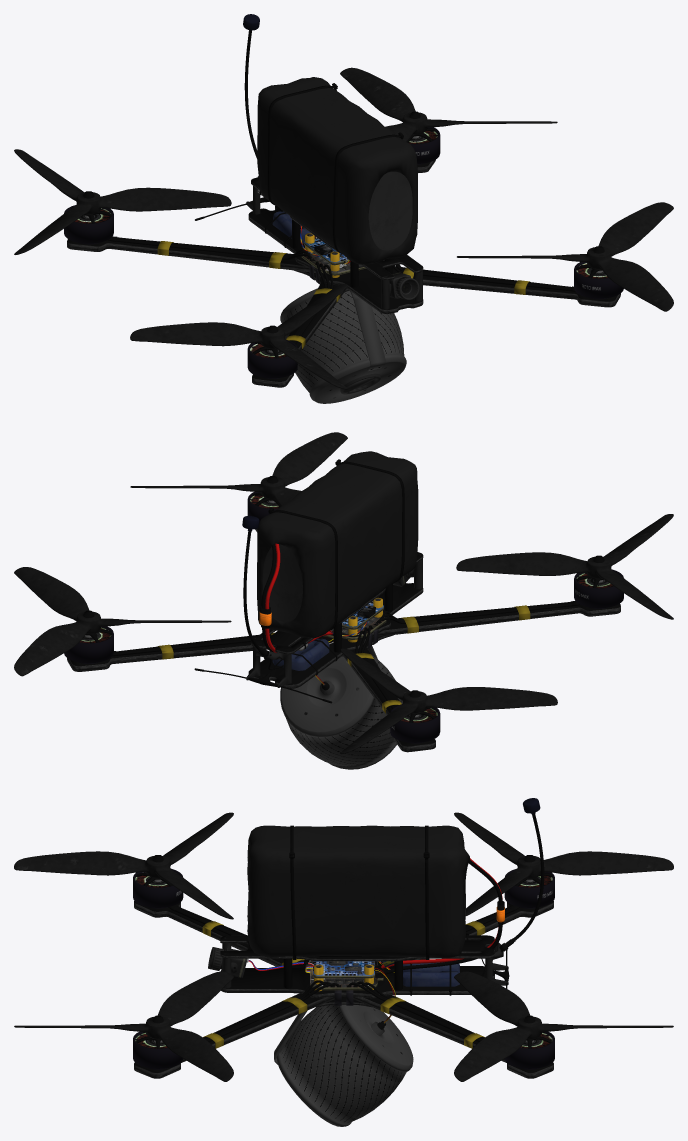
The model's file is combat_fpv_drone_kamikaze.glb.
The picture shows the model from 3 angles, top to bottom: view 1: azimuth 30°, elevation 25°; view 2: azimuth 150°, elevation 25°; view 3: azimuth 270°, elevation 25°; orthographic projection.
Parts seen in each view (by area): view 1: desirefx_me_2, desirefx_me_3, desirefx_me_1, desirefx_me_5, desirefx_me_4, desirefx_me_6, desirefx_me_7; view 2: desirefx_me_2, desirefx_me_3, desirefx_me_1, desirefx_me_7, desirefx_me_6, desirefx_me_4, desirefx_me_5; view 3: desirefx_me_2, desirefx_me_3, desirefx_me_1, desirefx_me_5, desirefx_me_7, desirefx_me_4, desirefx_me_6.
Boxes of the visible parts, box(x1,y1,x2,y2) form: desirefx_me_2: box(67, 14, 620, 387); desirefx_me_3: box(280, 264, 406, 403); desirefx_me_1: box(64, 127, 623, 378); desirefx_me_5: box(457, 202, 673, 311); desirefx_me_4: box(130, 284, 347, 389); desirefx_me_6: box(14, 149, 231, 254); desirefx_me_7: box(340, 67, 557, 141); desirefx_me_2: box(67, 451, 620, 752); desirefx_me_3: box(280, 629, 402, 769); desirefx_me_1: box(64, 492, 623, 743); desirefx_me_7: box(14, 567, 231, 676); desirefx_me_6: box(340, 648, 557, 754); desirefx_me_4: box(456, 514, 673, 619); desirefx_me_5: box(130, 432, 347, 506); desirefx_me_2: box(134, 798, 553, 1078); desirefx_me_3: box(274, 968, 413, 1126); desirefx_me_1: box(133, 868, 554, 1069); desirefx_me_5: box(14, 971, 233, 1081); desirefx_me_7: box(454, 971, 673, 1081); desirefx_me_4: box(14, 812, 233, 919); desirefx_me_6: box(454, 812, 673, 915).
Size of the model in its own units: 9.6 by 5.37 by 10.
7 materials, 7 textured.
